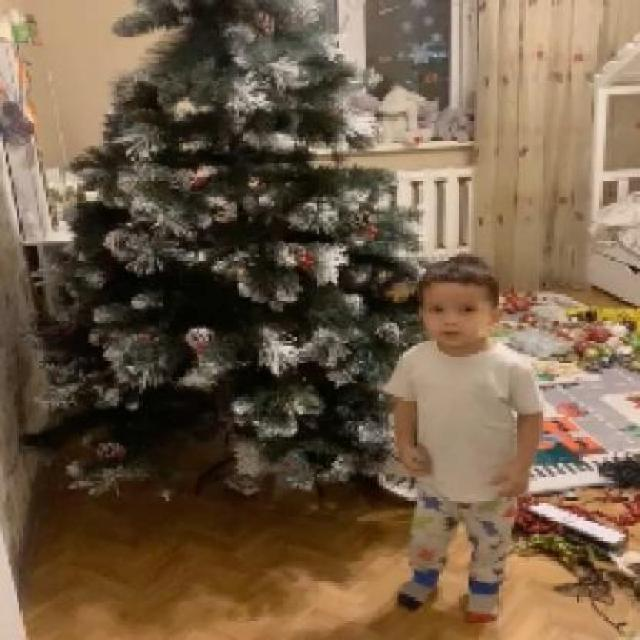child: (380, 252, 546, 628)
